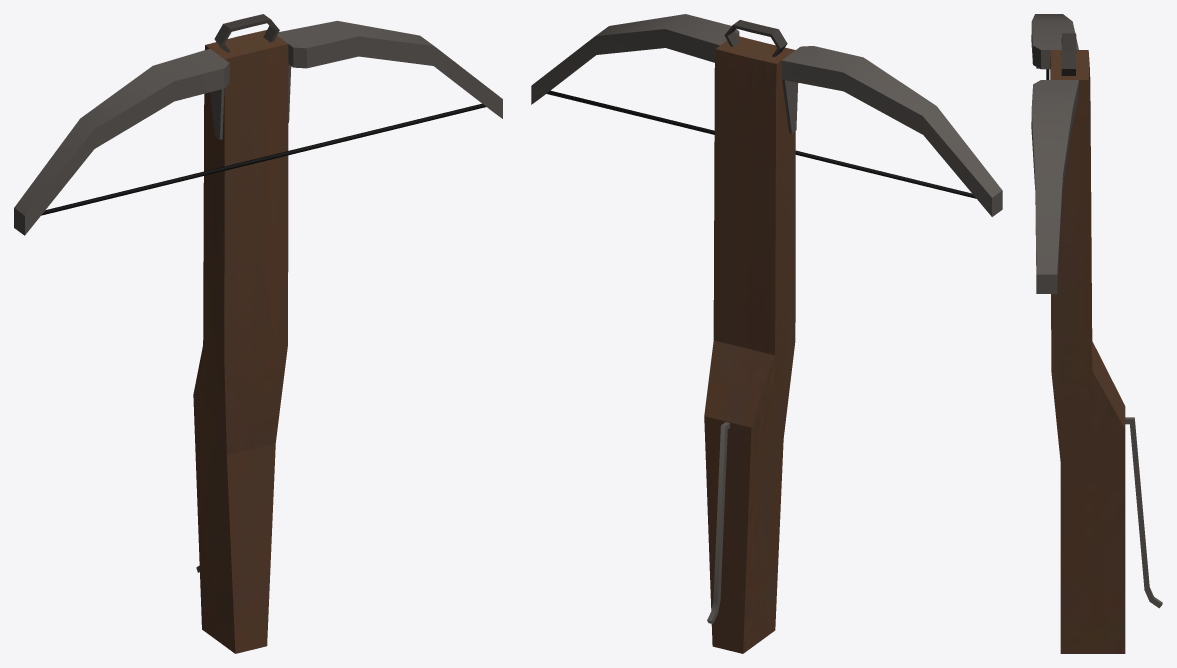
Rendered from Crossbow.fbx.
3 views of the same model, side by side, from view 1: azimuth 30°, elevation 25°; view 2: azimuth 150°, elevation 25°; view 3: azimuth 270°, elevation 25° (orthographic). The views are drawn at different scales.
Parts seen in each view (by area): view 1: Crossbow_Baked; view 2: Crossbow_Baked; view 3: Crossbow_Baked.
Part boxes in pixels (box(x1,y1,x2,y2)): Crossbow_Baked: box(14, 14, 502, 653); Crossbow_Baked: box(531, 14, 1002, 653); Crossbow_Baked: box(1031, 14, 1162, 653).
Bounding box in the file's own units: 64.79 × 80.99 × 15.95.
Materials: 1 (1 with a texture image).
